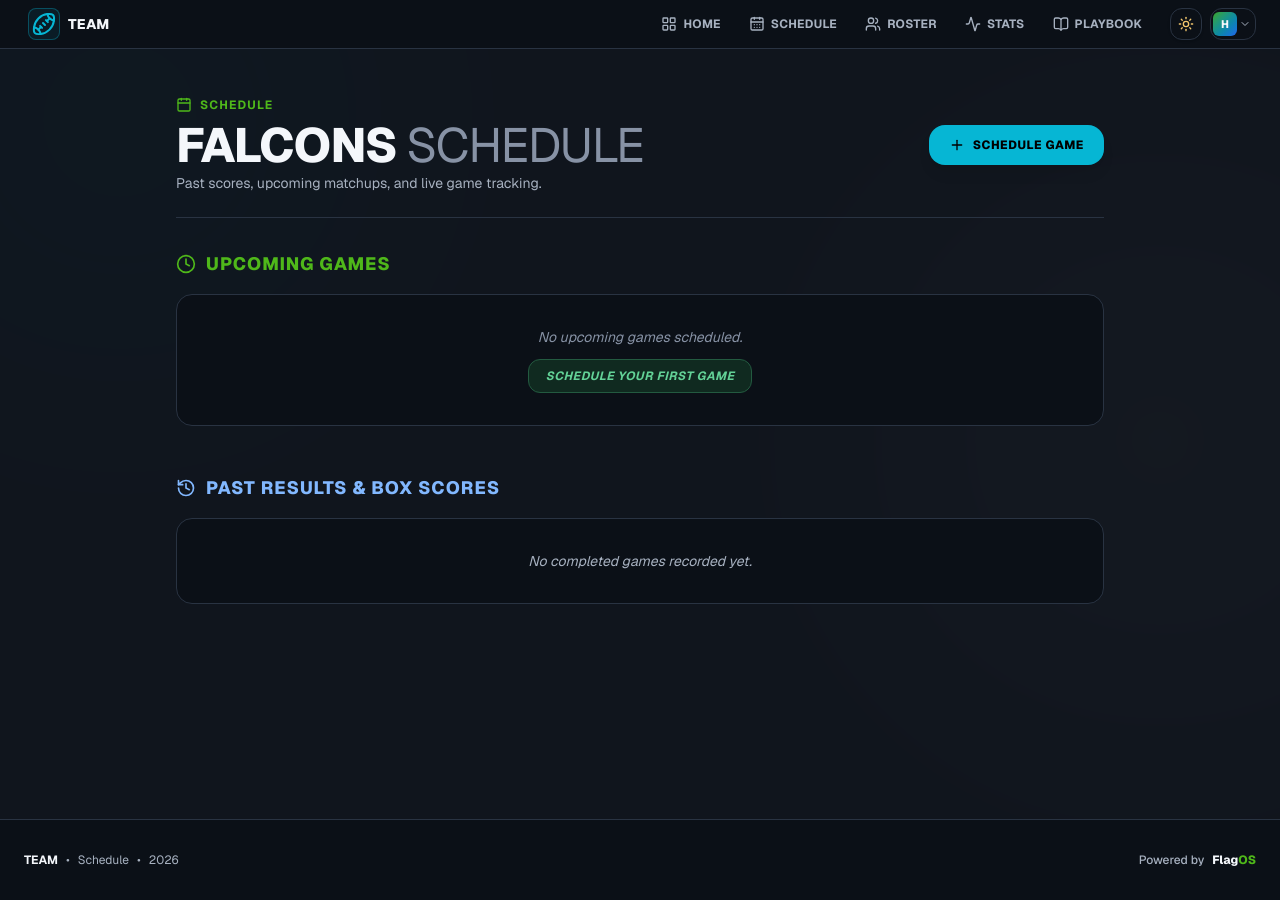
team schedule lean loading and coach actions › opens and closes the exhibition match scheduler modal
Click the button "Schedule Game". click: (1016, 145)
box: [929, 125, 1104, 165]
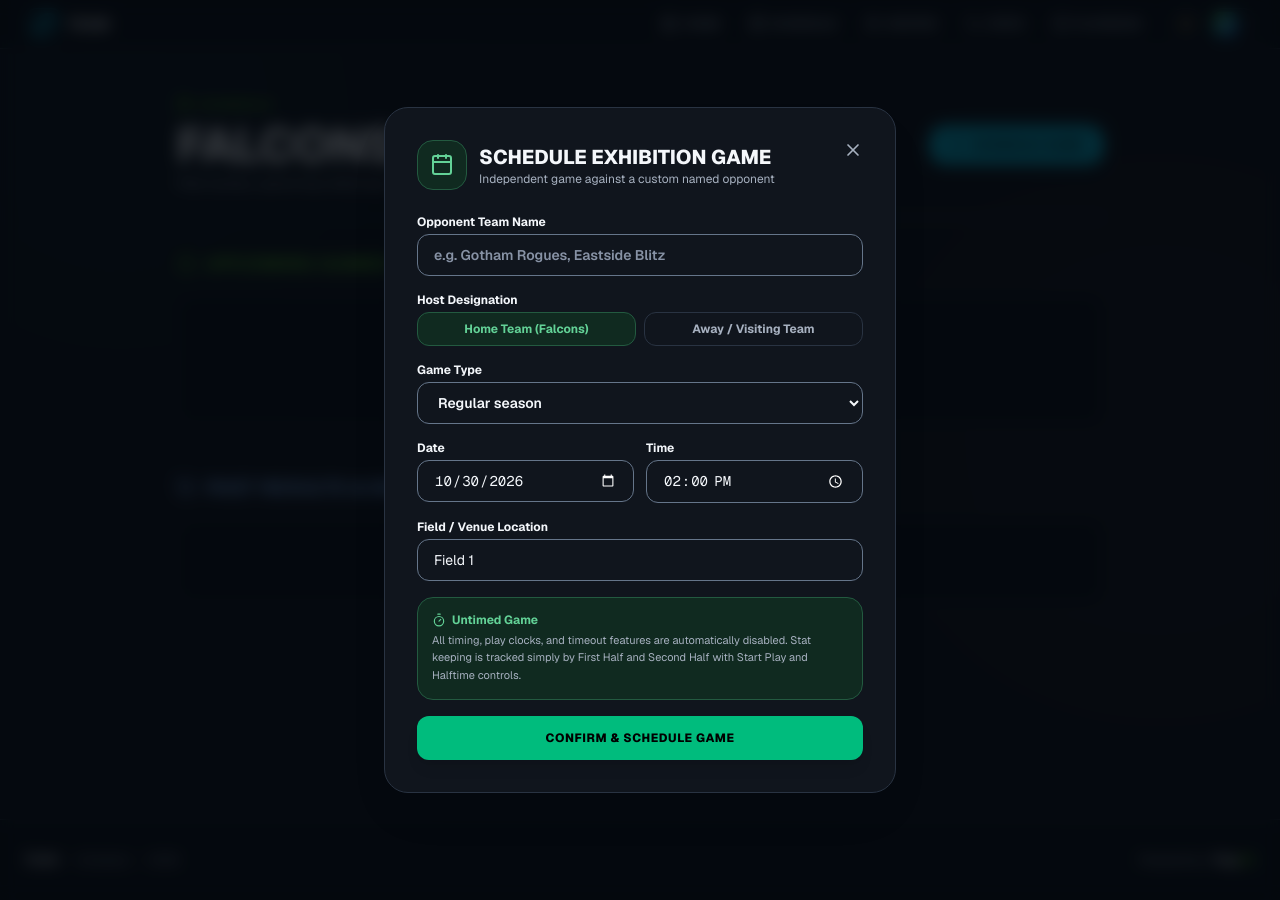
Result: the dialog is shown at [384, 107, 896, 793]
Result: the heading "Schedule Exhibition Game" is shown at [479, 143, 775, 171]
Click the button named "Close". click: (853, 150)
box: [835, 132, 871, 168]
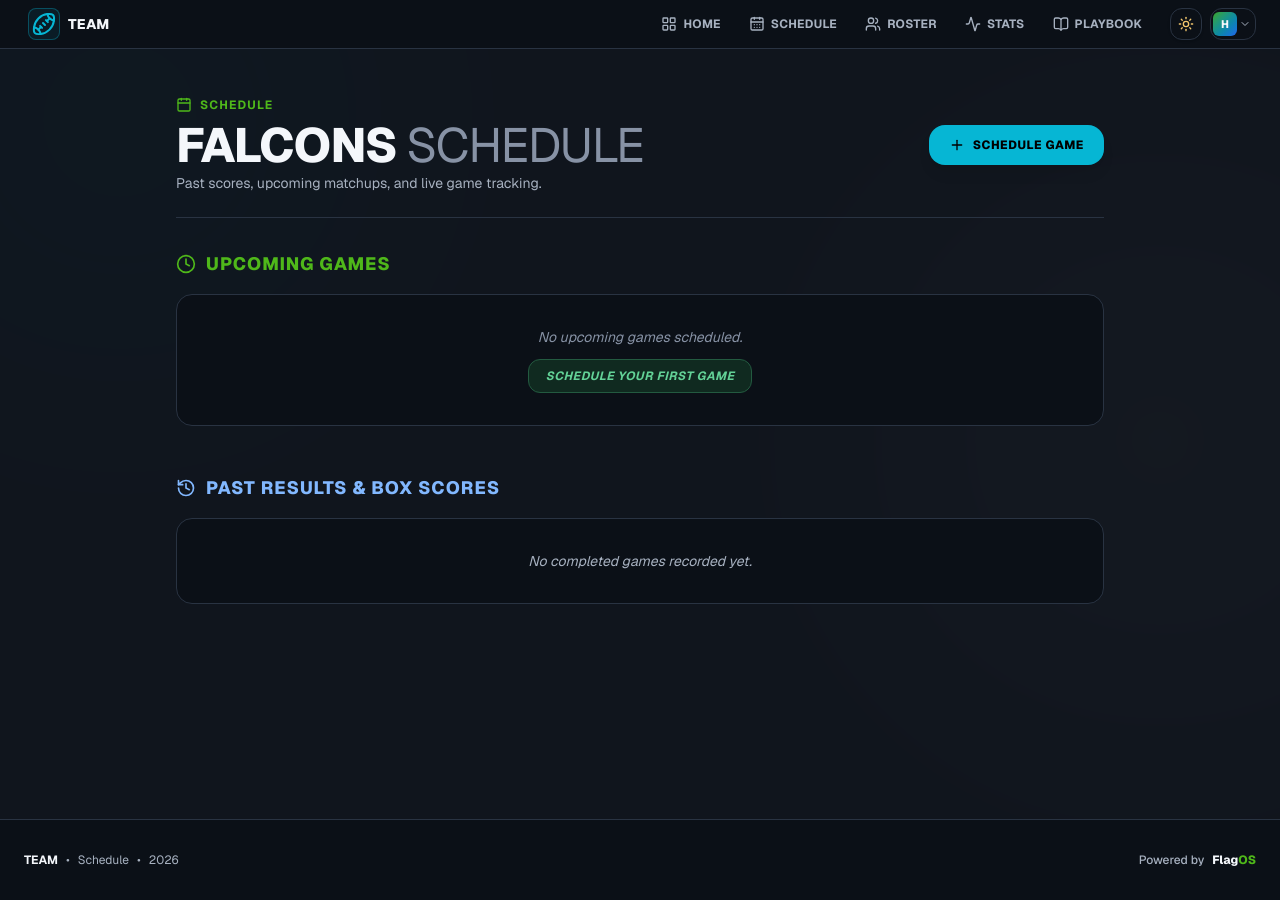
Result: the dialog is gone
